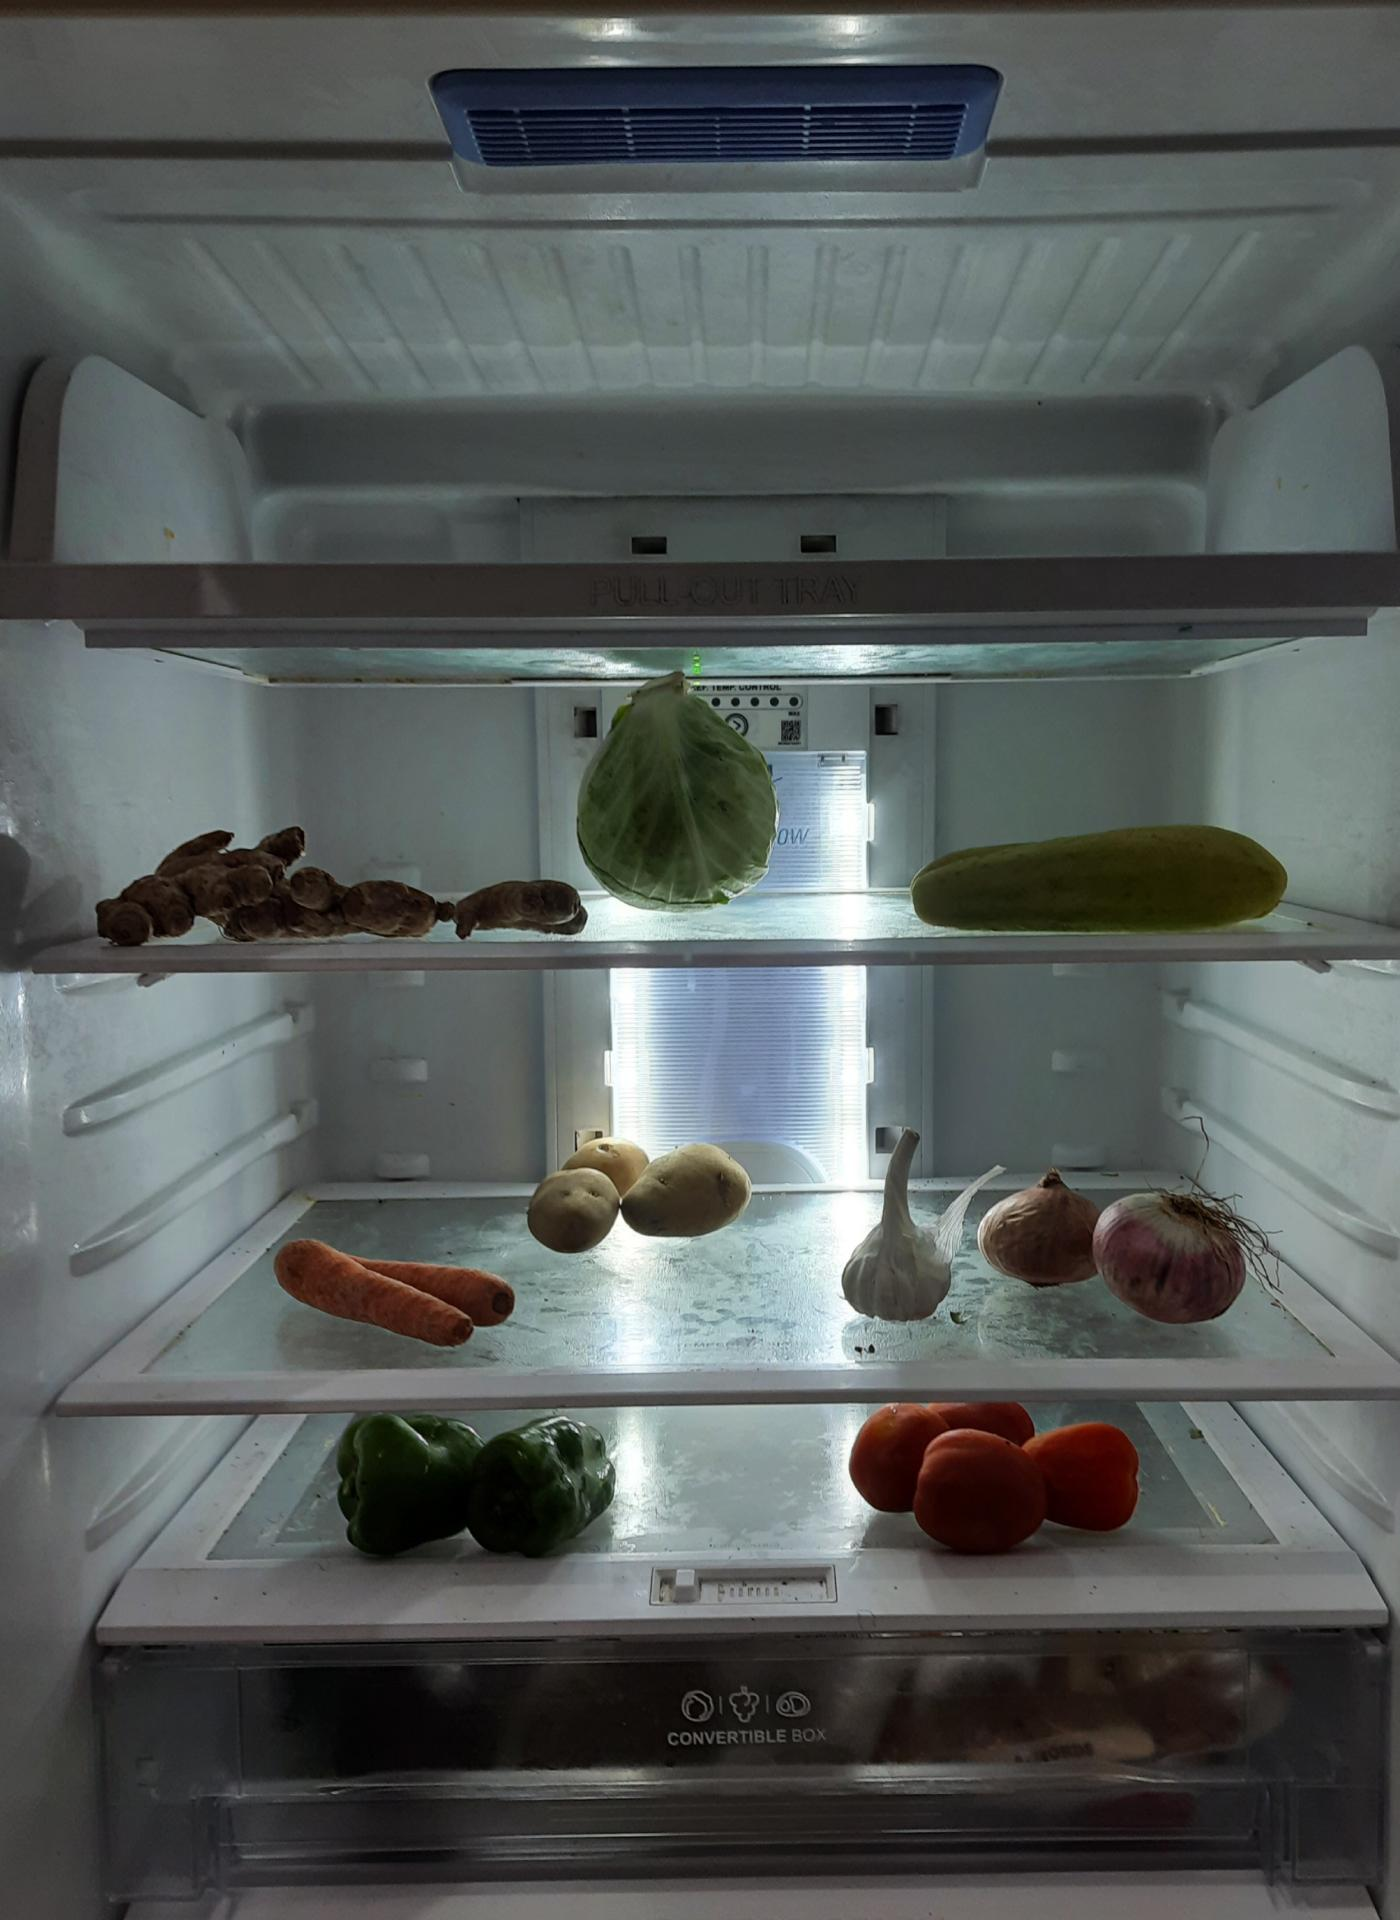cabbage: (576, 695, 786, 911)
capsicum: (324, 1404, 616, 1549)
carrots: (271, 1231, 522, 1351)
cucumber: (906, 815, 1303, 929)
garlic: (842, 1114, 957, 1318)
ginger: (82, 817, 592, 948)
onion: (968, 1173, 1248, 1325)
potato: (523, 1128, 763, 1263)
tomato: (838, 1398, 1145, 1549)
